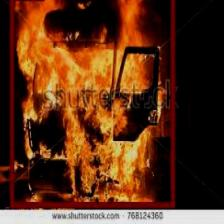fire: (8, 0, 174, 207)
